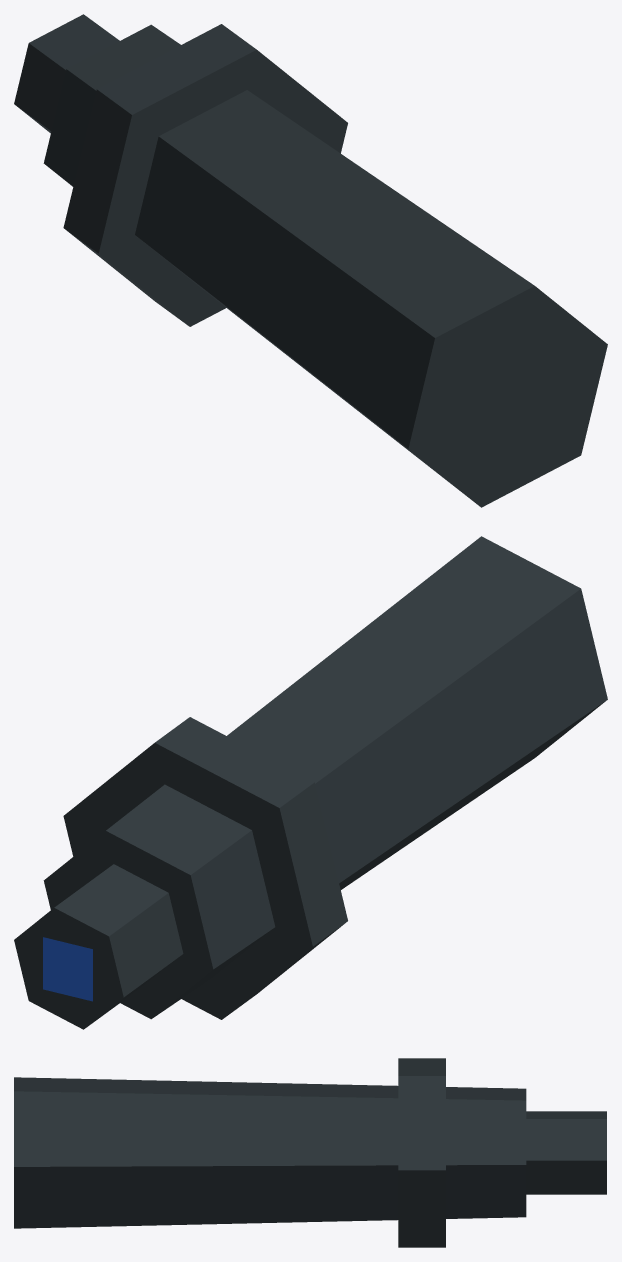
The model's file is ppc.glb.
3 renders of one model, top to bottom at view 1: azimuth 30°, elevation 25°; view 2: azimuth 150°, elevation 25°; view 3: azimuth 270°, elevation 25°, orthographic. The views are drawn at different scales.
Visible parts, largest first — view 1: mount; view 2: mount; view 3: mount.
Boxes of the visible parts, x1,y1,x2,y2 form: mount: [14, 14, 607, 507]; mount: [14, 536, 607, 1029]; mount: [14, 1058, 606, 1247].
Size of the model in its own units: 5.31 by 5.31 by 16.23.
